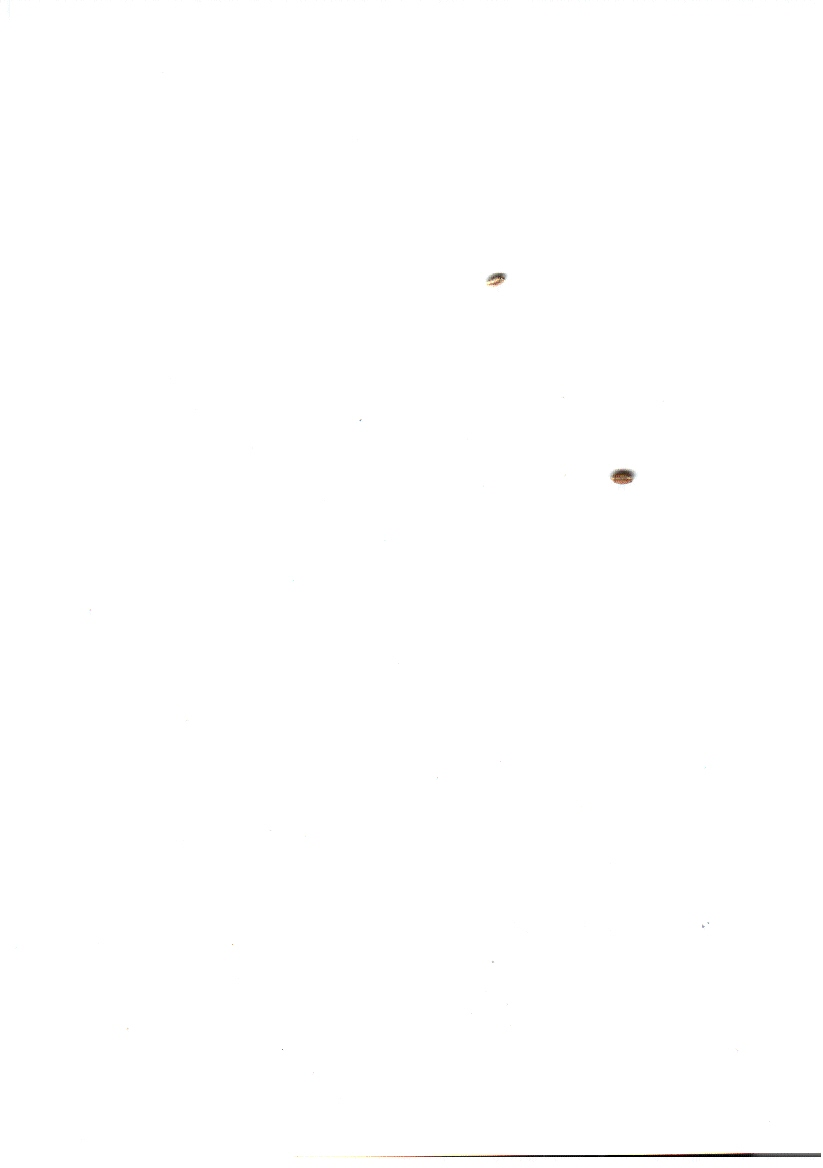grains: (605, 455, 644, 494), (475, 263, 511, 304)
